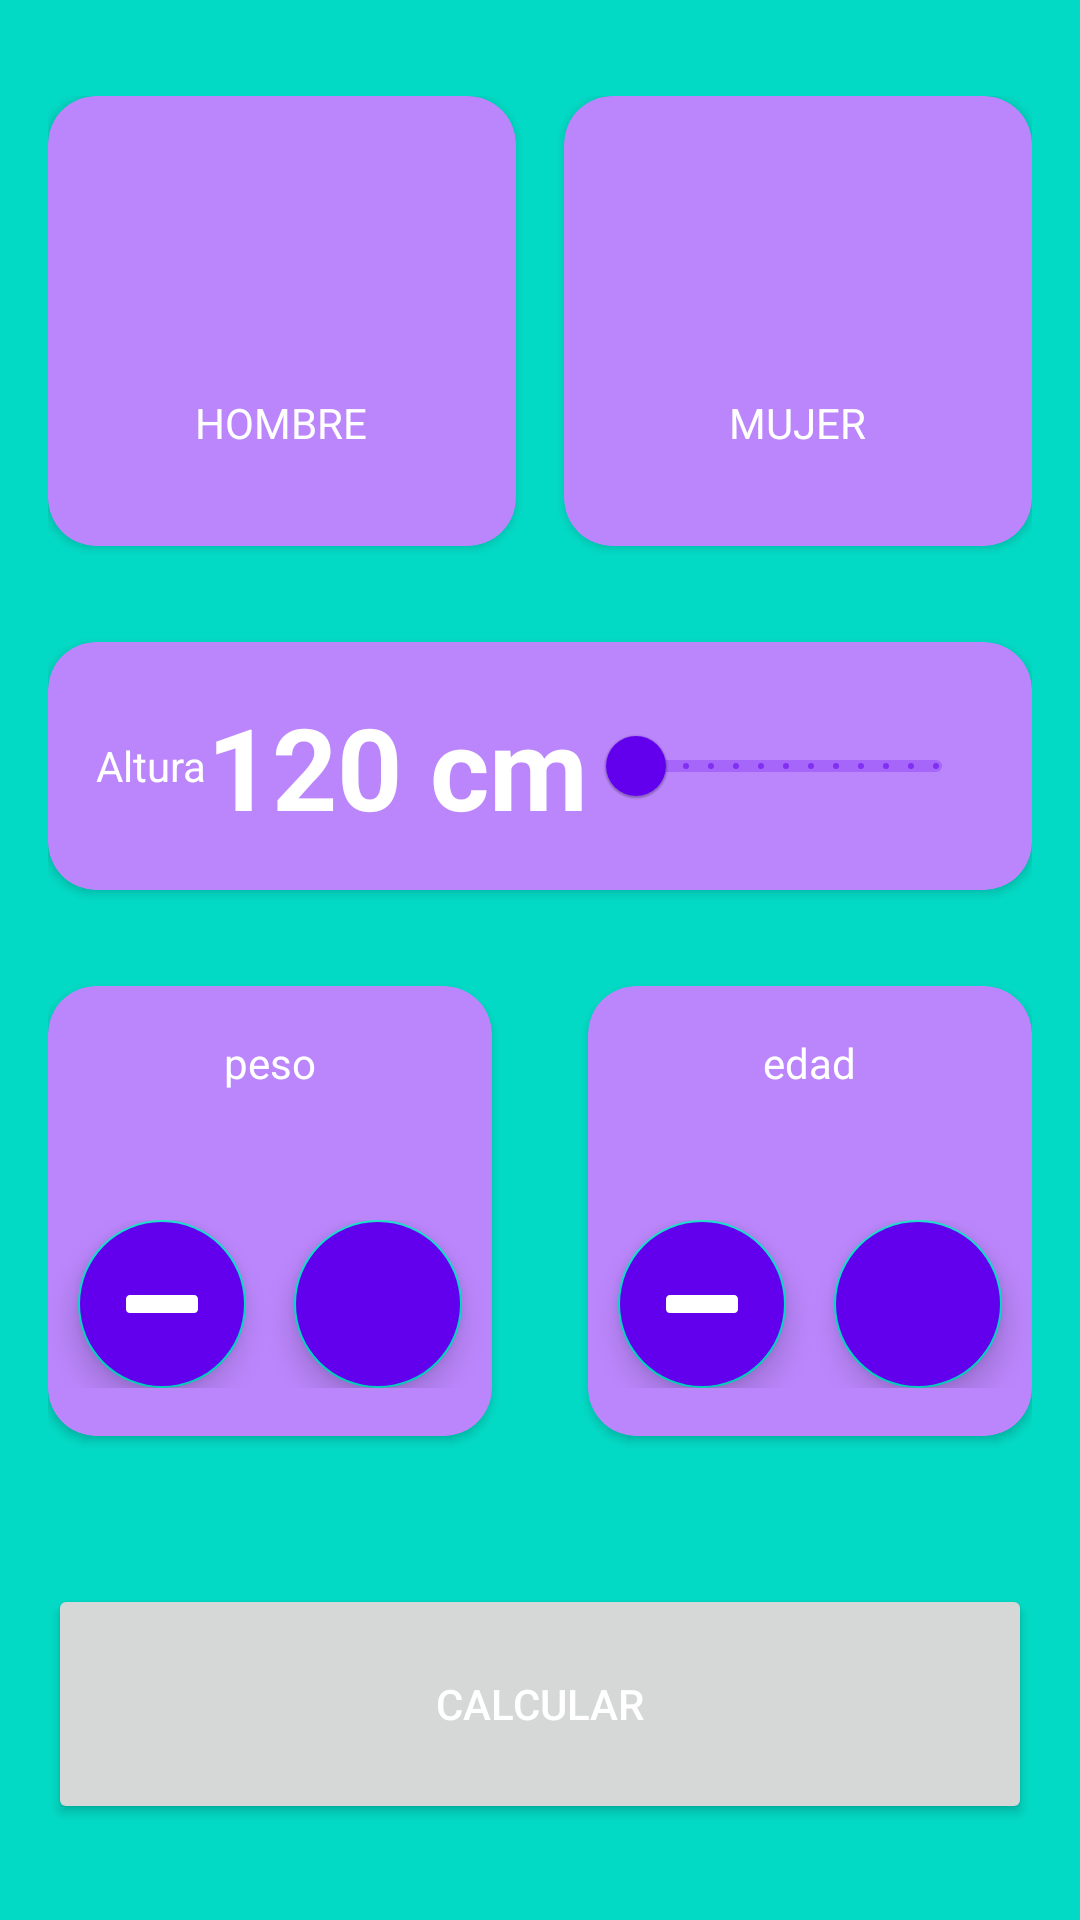

Icons on this 1080px×1920px Android screen, each with the point to tap as (x=x, y=y):
minus: (x=162, y=1304), (x=702, y=1304)
